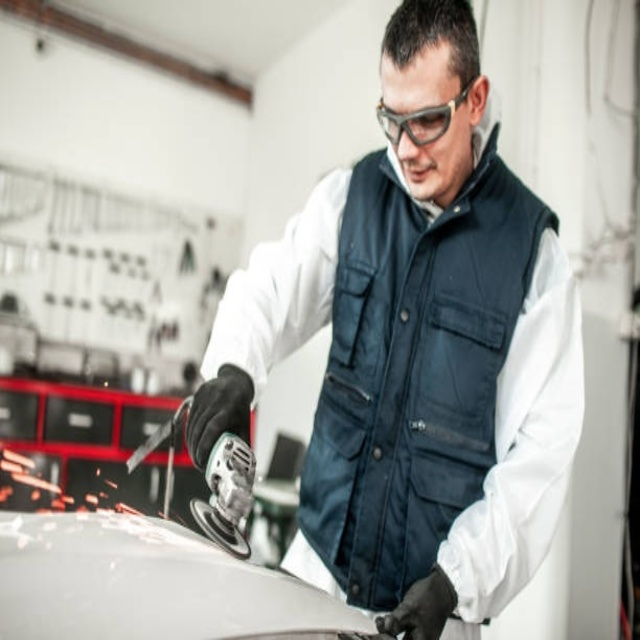Gafas: (376, 77, 474, 147)
Guantes: (183, 364, 254, 473), (376, 563, 459, 640)
Sin_mascara: (397, 155, 443, 198)
